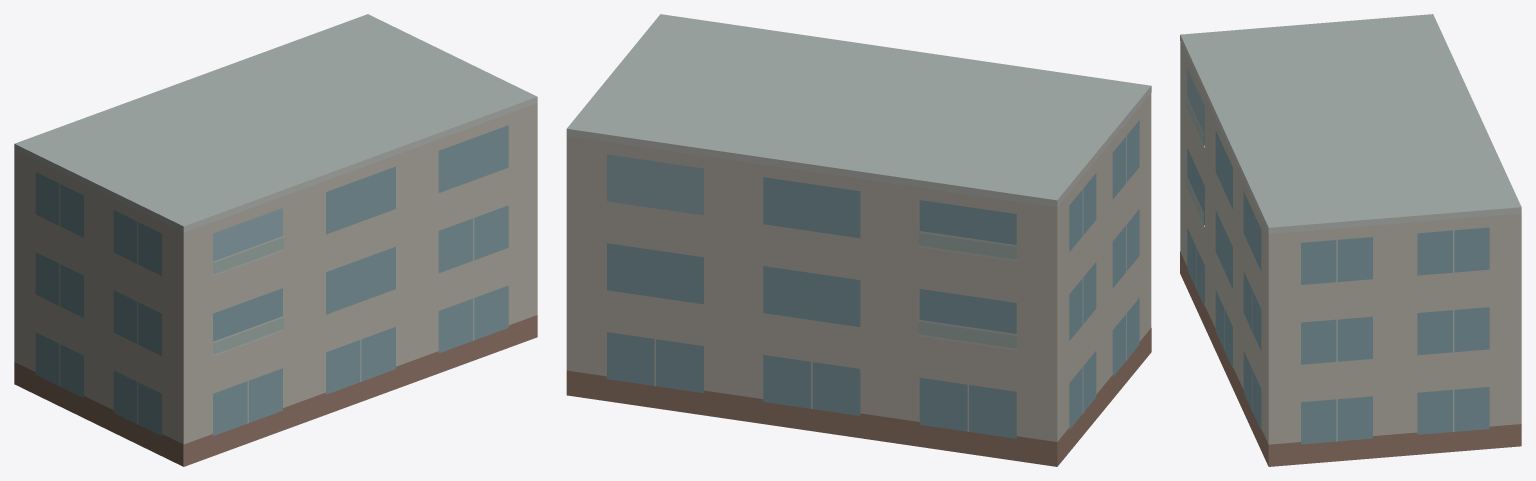
Rendered from survey-upis-32931415.glb.
The picture shows the model from 3 angles, left to right: view 1: azimuth 30°, elevation 25°; view 2: azimuth 150°, elevation 25°; view 3: azimuth 270°, elevation 25°; orthographic projection. The views are drawn at different scales.
Parts seen in each view (by area): view 1: survey-upis-32931415.tmp; view 2: survey-upis-32931415.tmp; view 3: survey-upis-32931415.tmp.
Part boxes in pixels (left/top/right/bottom): survey-upis-32931415.tmp: left=14, top=14, right=537, bottom=466; survey-upis-32931415.tmp: left=566, top=14, right=1151, bottom=466; survey-upis-32931415.tmp: left=1180, top=14, right=1521, bottom=466.
Bounding box in the file's own units: 17.56 × 9.15 × 11.85.
